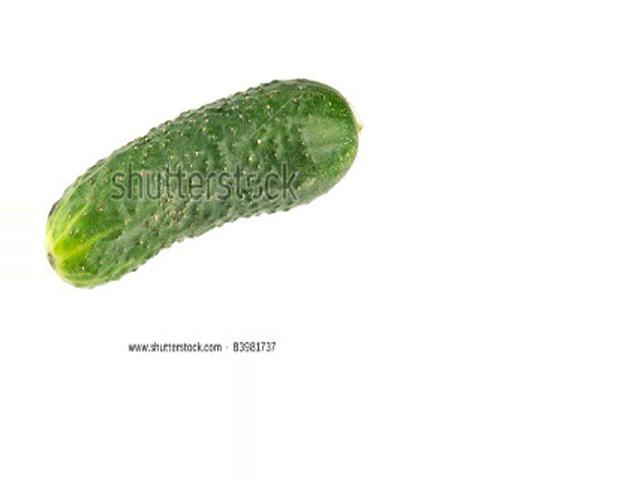cucumber: (46, 78, 360, 287)
